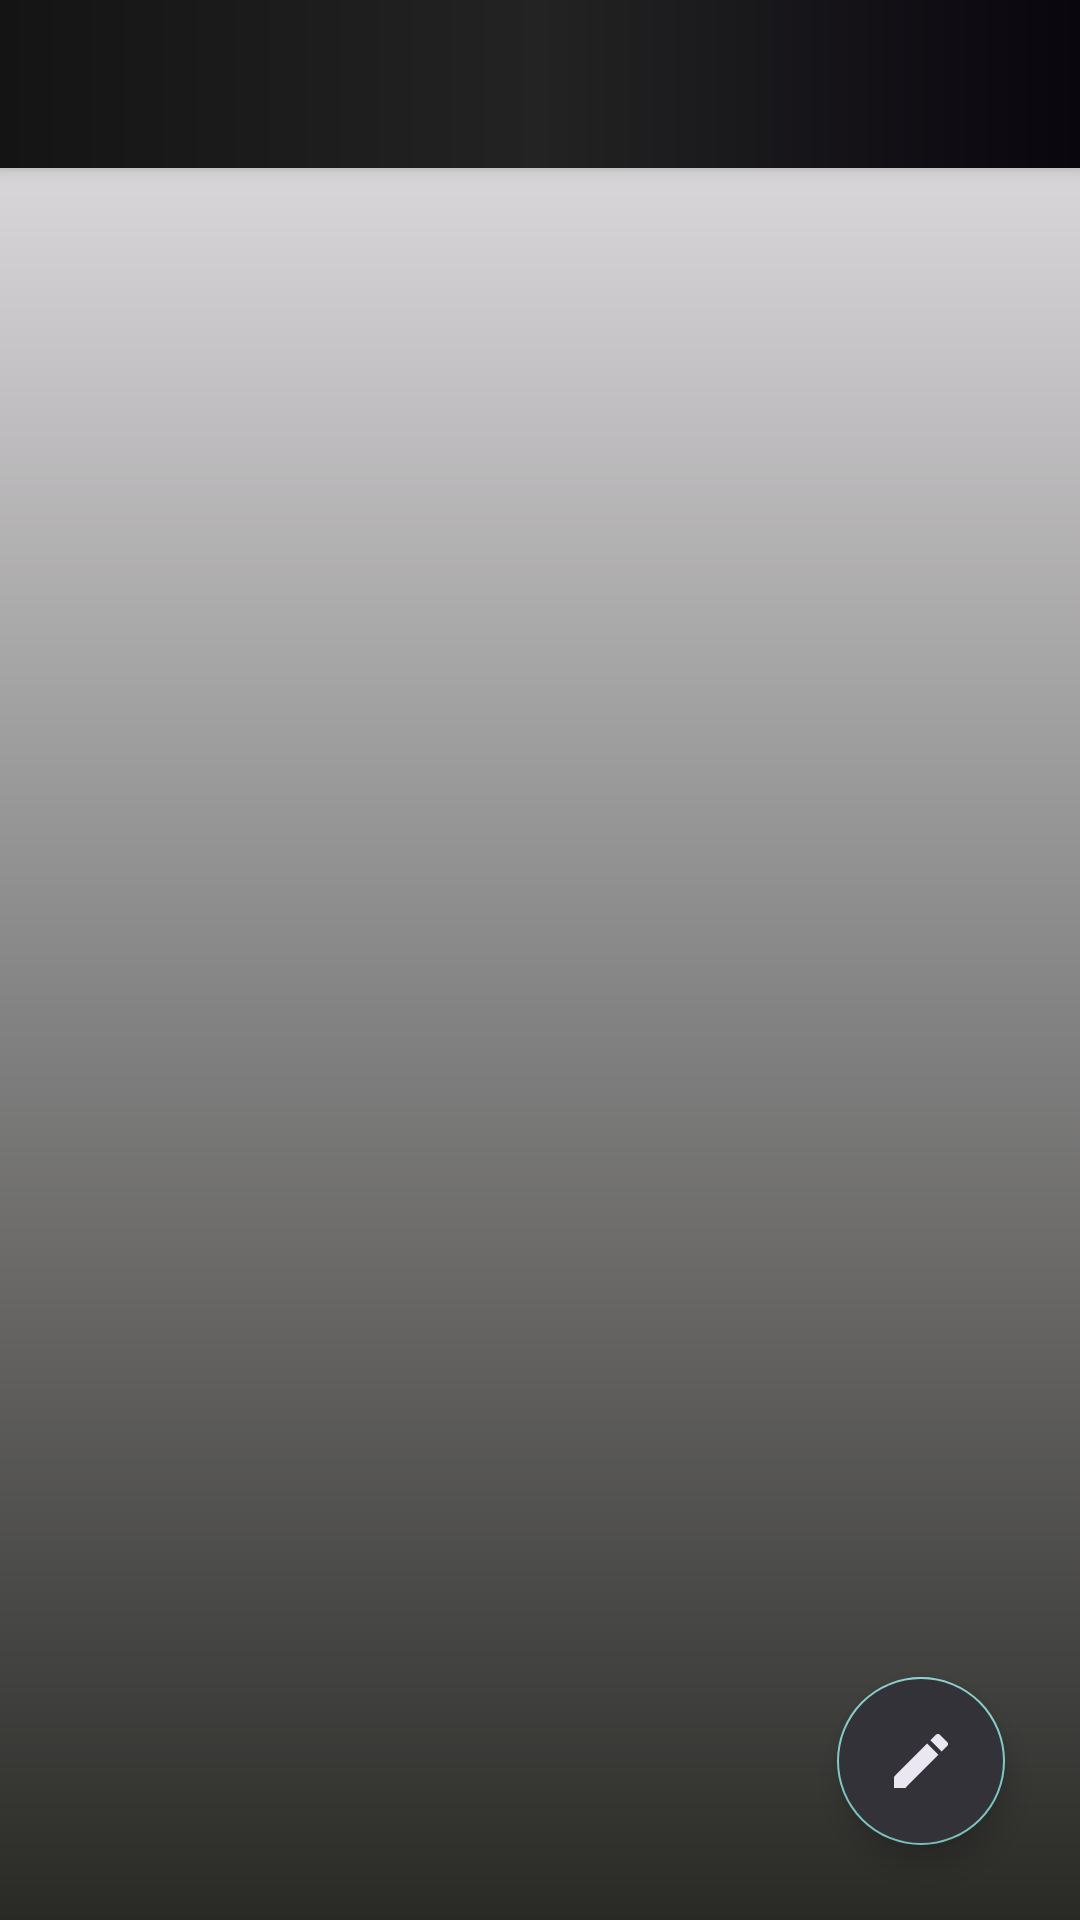

Icon click points for this 1080px x 1920px phone screenshot, format point (x, y):
edit: point (921, 1761)
